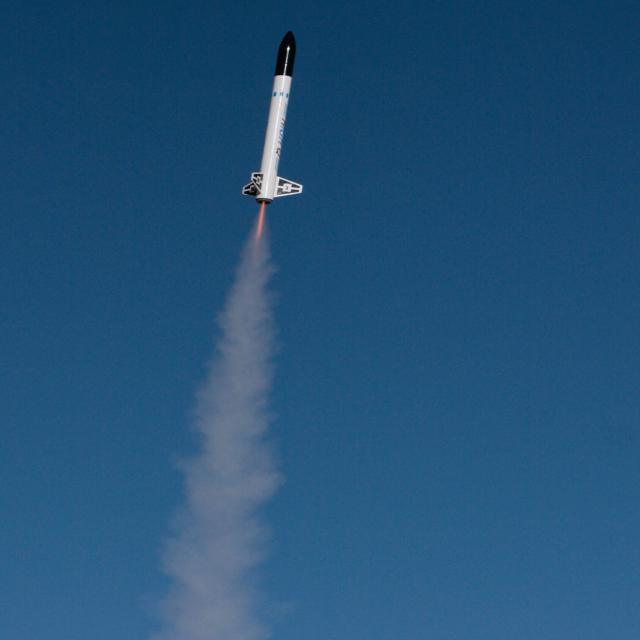Rocket: (240, 29, 306, 205)
